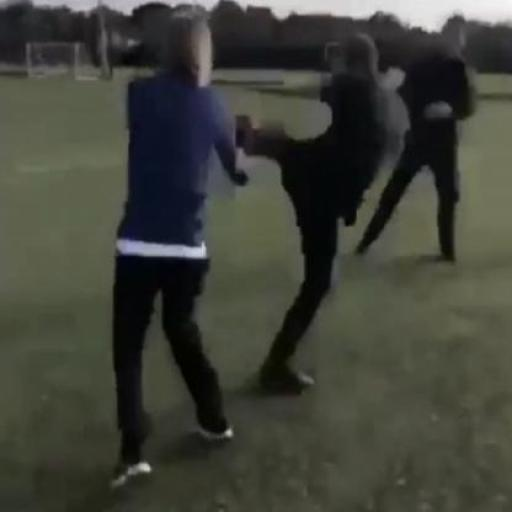Fighting: (110, 0, 380, 498)
